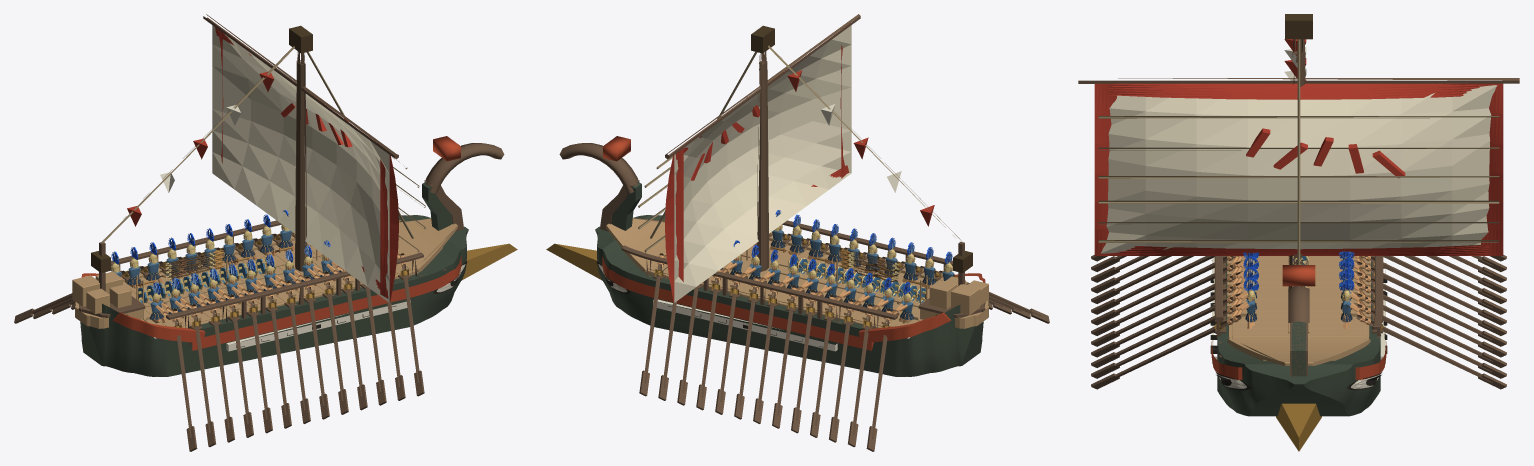
The model's file is warship-battle-v11.glb.
3 views of the same model, side by side, from view 1: azimuth 30°, elevation 25°; view 2: azimuth 150°, elevation 25°; view 3: azimuth 270°, elevation 25° (orthographic). The views are drawn at different scales.
Visible parts, largest first — view 1: sail, hull-low, n27, mast, n295, Bow transfer deck, n253, n289, n31, n59, n29, hull-prow (+7 smaller); view 2: sail, hull-low, n3, mast, n293, Bow transfer deck, n233, n289, n7, n59, n5, hull-prow (+8 smaller); view 3: sail, hull-low, n297, n299, n293, n295, n289, Bow transfer deck, n305, hull-prow, n301, n311 (+36 smaller).
Boxes of the visible parts, x1,y1,x2,y2 form: sail: [212, 25, 389, 302]; hull-low: [80, 215, 468, 376]; n27: [189, 256, 461, 350]; mast: [295, 60, 307, 271]; n295: [380, 155, 398, 301]; Bow transfer deck: [398, 218, 457, 272]; n253: [166, 252, 423, 319]; n289: [203, 14, 398, 159]; n31: [226, 300, 410, 351]; n59: [425, 143, 504, 193]; n29: [113, 312, 205, 342]; hull-prow: [462, 243, 517, 280]; sail: [674, 25, 851, 302]; hull-low: [595, 215, 983, 376]; n3: [602, 256, 873, 350]; mast: [757, 60, 769, 271]; n293: [665, 145, 683, 301]; Bow transfer deck: [606, 218, 666, 272]; n233: [621, 245, 897, 319]; n289: [665, 14, 860, 159]; n7: [653, 299, 837, 351]; n59: [559, 143, 638, 193]; n5: [858, 312, 950, 342]; hull-prow: [546, 243, 601, 280]; sail: [1100, 85, 1497, 253]; hull-low: [1217, 256, 1380, 416]; n297: [1108, 83, 1495, 99]; n299: [1098, 244, 1490, 255]; n293: [1481, 83, 1503, 255]; n295: [1094, 83, 1116, 255]; n289: [1078, 78, 1519, 83]; Bow transfer deck: [1227, 339, 1370, 365]; n305: [1098, 200, 1499, 203]; hull-prow: [1276, 403, 1321, 451]; n301: [1098, 240, 1499, 242]; n311: [1098, 116, 1499, 118].
Bounding box in the file's own units: 6.24 × 4.2 × 4.72.
